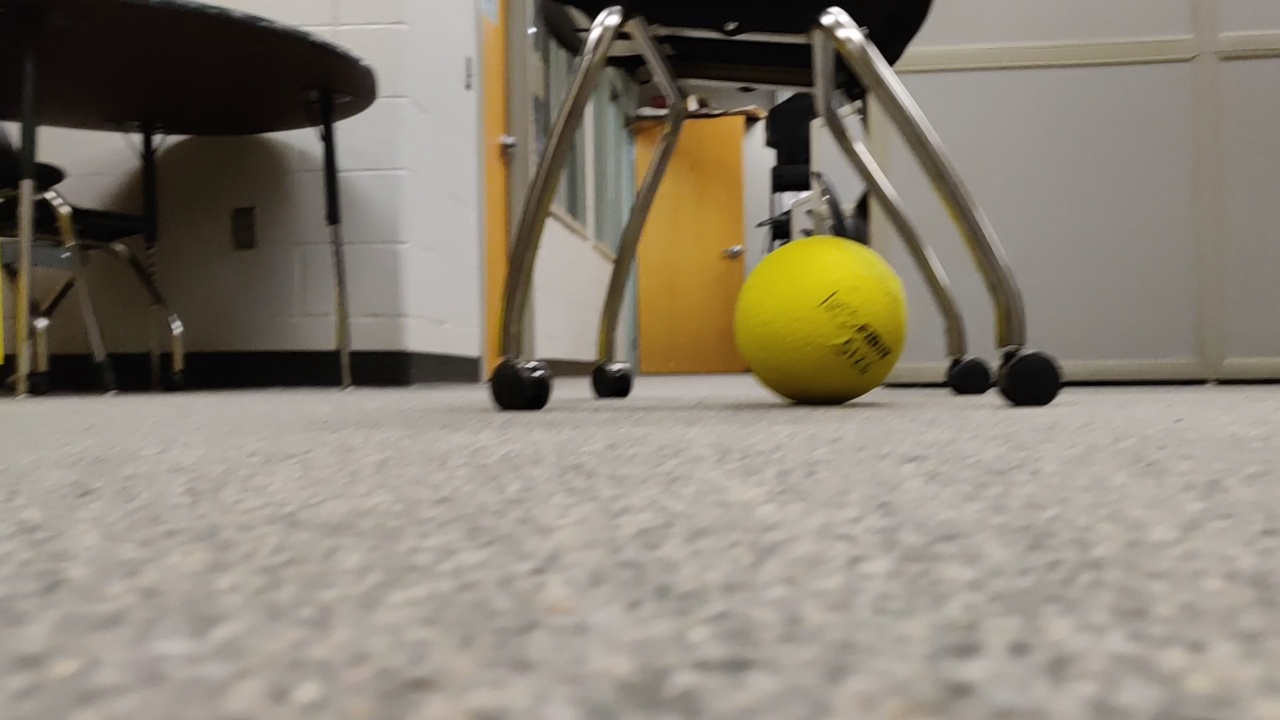Ball: (728, 235, 920, 407)
